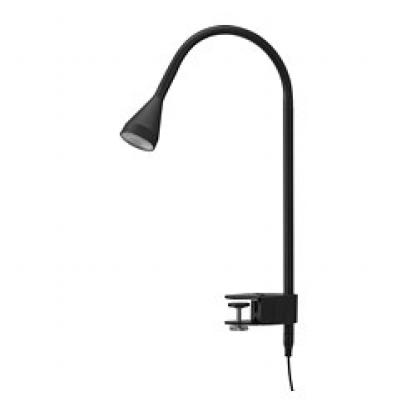Lamp: (113, 8, 315, 394)
